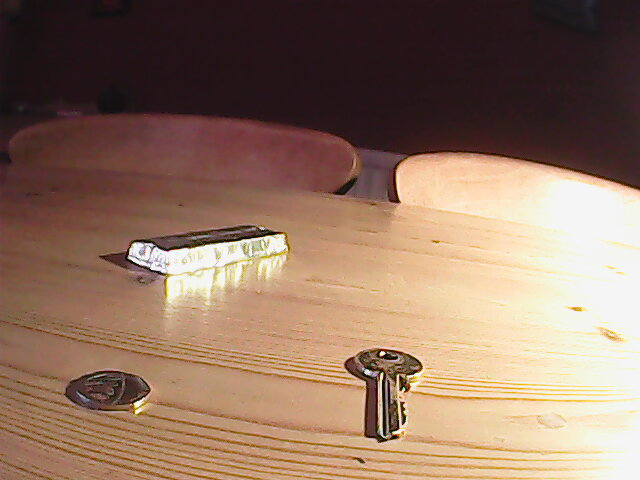Coin: (67, 367, 154, 414)
Foil: (122, 222, 291, 279)
Key: (347, 343, 425, 441)
